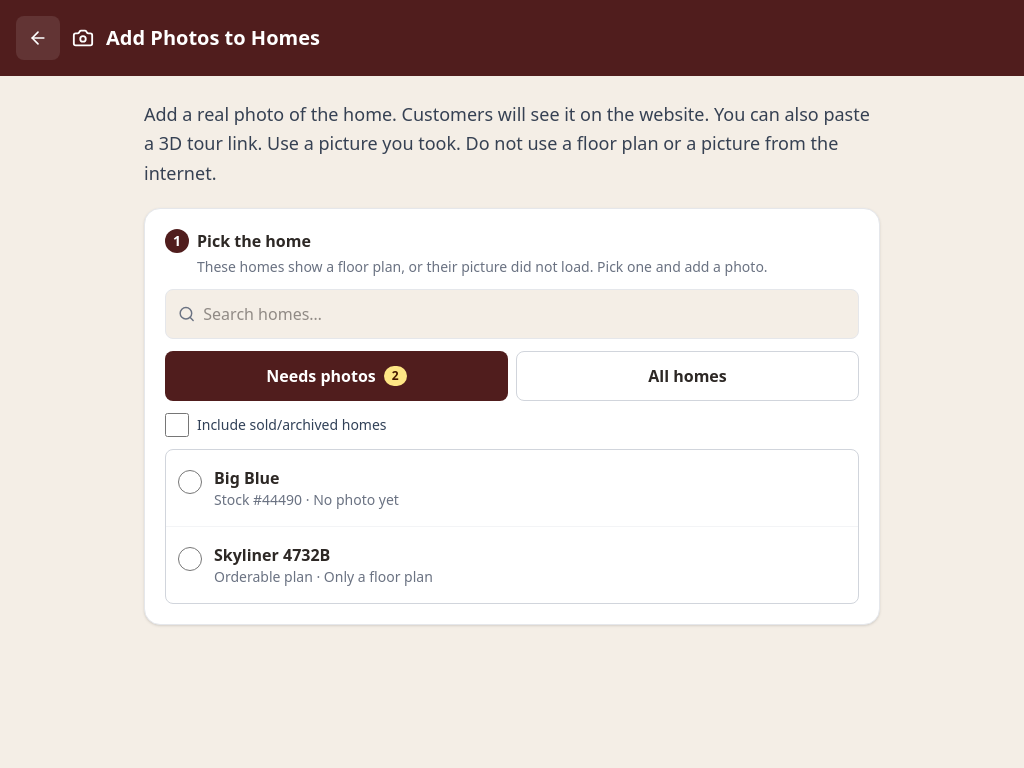
Scenario: Photo Manager home picker › shows homes that already have a photo from All homes
The width and height of the screenshot is (1024, 768).
Expected: the text "Big Blue" is shown, [214, 467, 280, 489]
Click the radio button labelled "All homes": (688, 376) [516, 351, 859, 401]
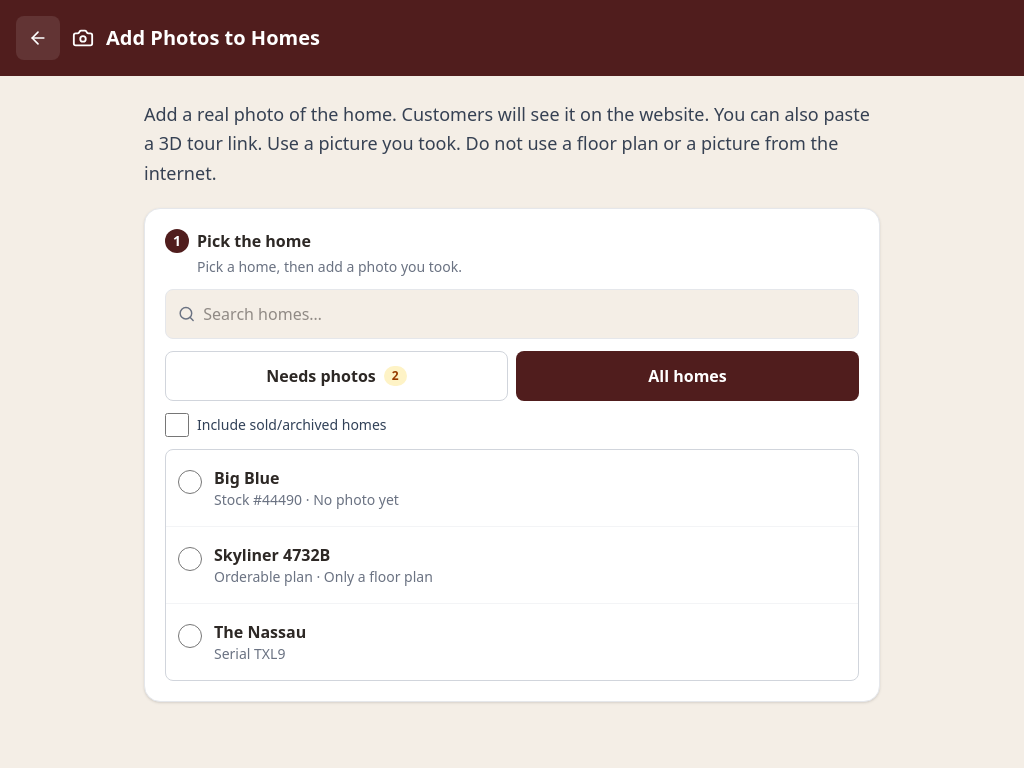
Expected: the text "The Nassau" is shown, [214, 621, 306, 643]
Expected: the text "Serial TXL9" is shown, [214, 644, 285, 663]
Expected: the text "Pick a home, then add a photo you took." is shown, [197, 257, 462, 276]
